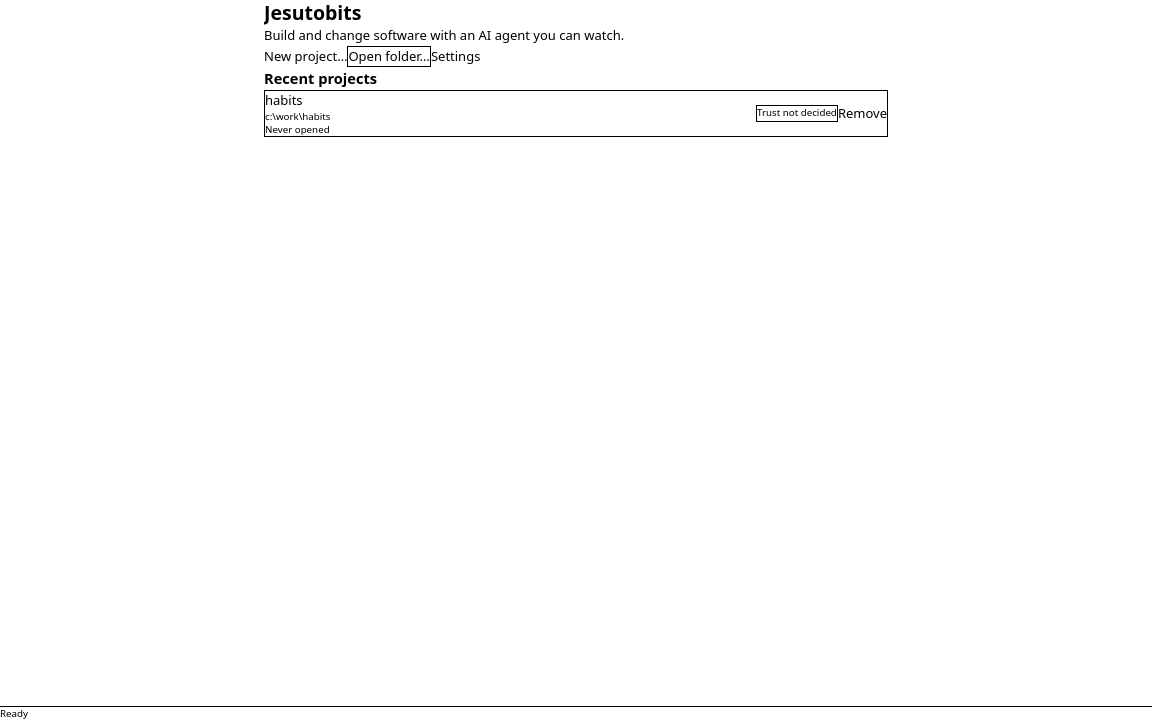
Test case: StartScreen › opens a recent project, asks for trust, then shows the project (J-05)
The image size is (1152, 720).
Click the button "habits". click: [284, 101]
box: [265,91,303,110]
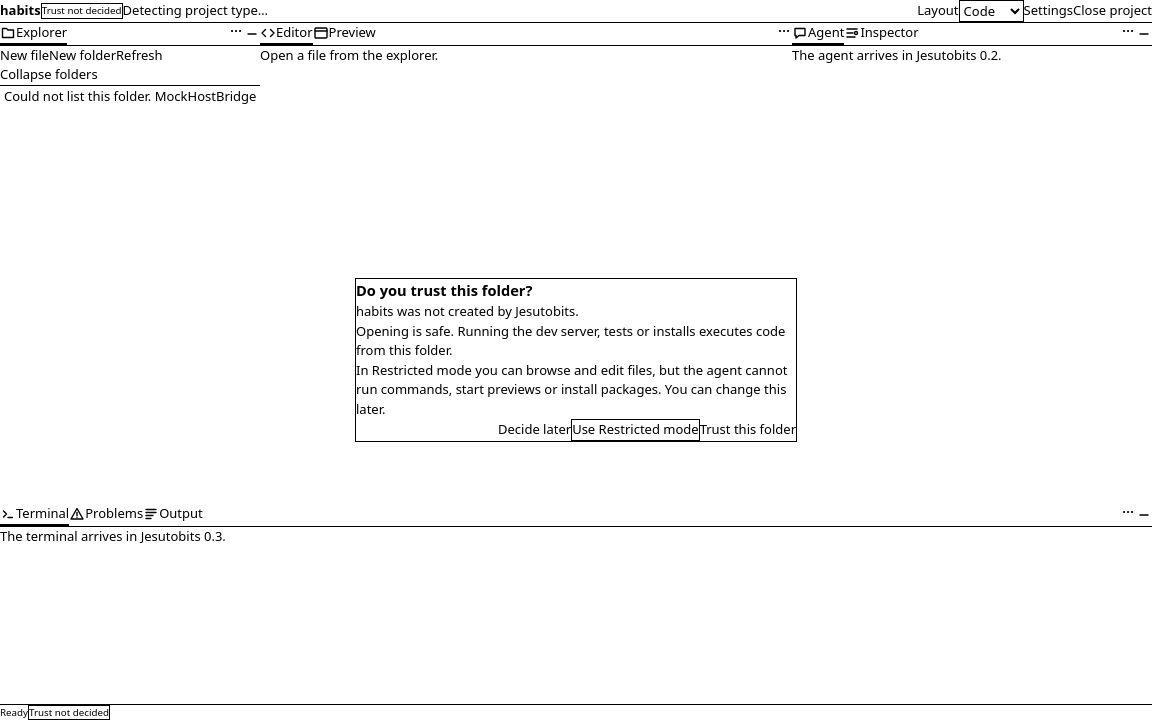
Expected: the dialog "Do you trust this folder?" shows "Opening is safe.", [356,322,785,359]
Click the button "Trust this folder". click: [748, 430]
box: [700,419,796,441]
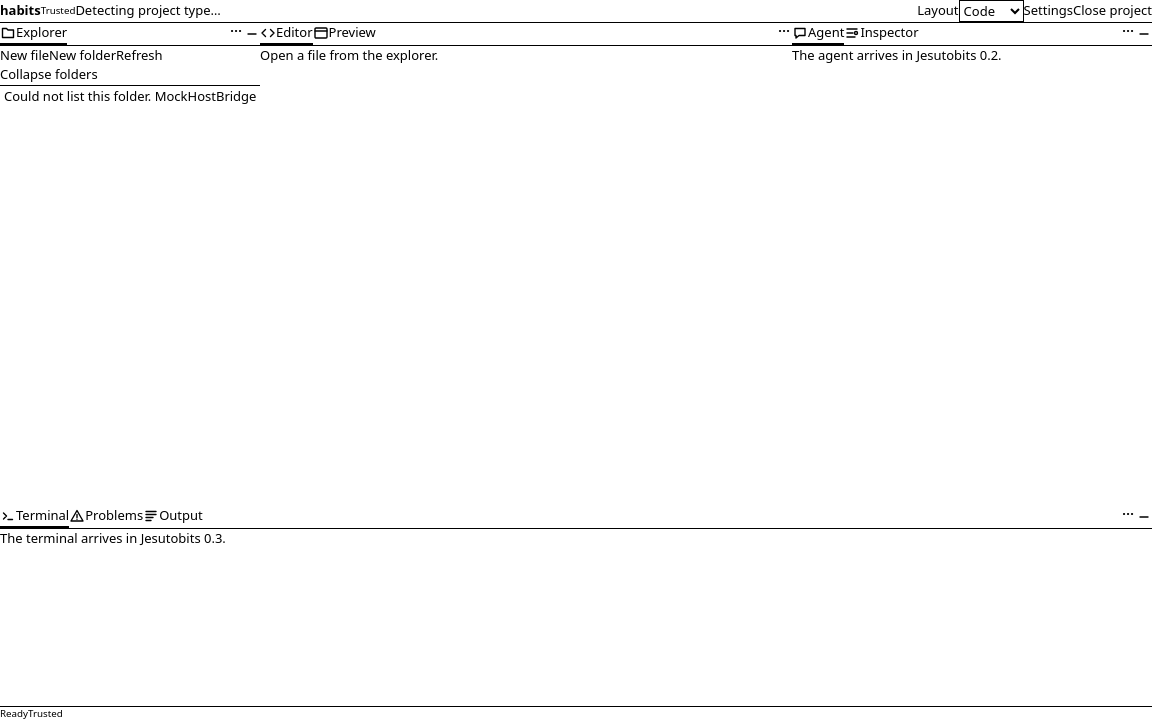
Expected: the heading "habits" is shown, [0,1,41,21]
Expected: the dialog is gone
Expected: the text "Trusted" next to "habits" is shown, [41,4,75,17]
